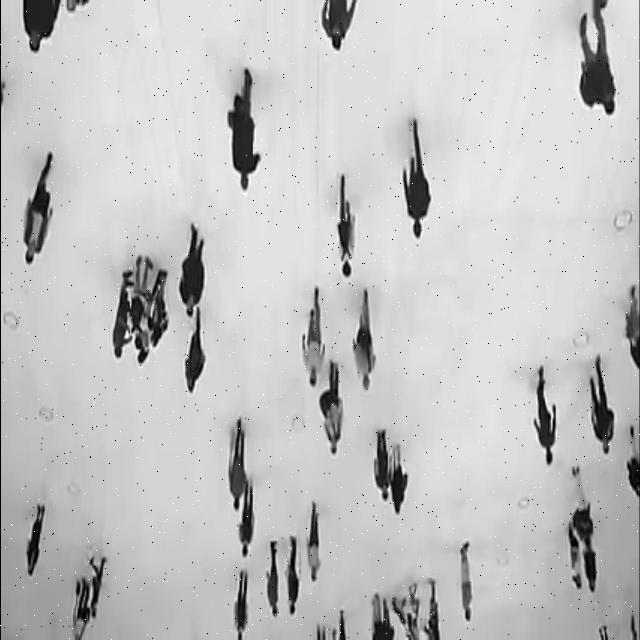humans: (19, 139, 63, 270), (222, 56, 264, 192), (574, 0, 618, 126), (402, 110, 431, 244), (530, 354, 562, 472), (21, 480, 53, 588), (177, 215, 210, 319), (348, 278, 378, 390), (332, 164, 361, 278), (316, 354, 348, 456), (223, 408, 253, 515), (314, 0, 369, 55), (104, 255, 132, 360), (178, 307, 211, 396), (298, 282, 325, 390), (12, 0, 62, 56), (144, 260, 174, 351), (591, 352, 615, 462), (128, 245, 153, 349), (234, 486, 267, 558), (569, 462, 594, 549), (88, 539, 110, 624), (371, 419, 392, 507), (280, 531, 302, 614), (261, 532, 281, 620), (230, 566, 254, 638), (70, 556, 90, 640), (307, 498, 325, 586), (389, 441, 410, 516), (566, 530, 585, 599), (461, 539, 474, 624), (136, 324, 156, 366), (584, 538, 599, 592)
